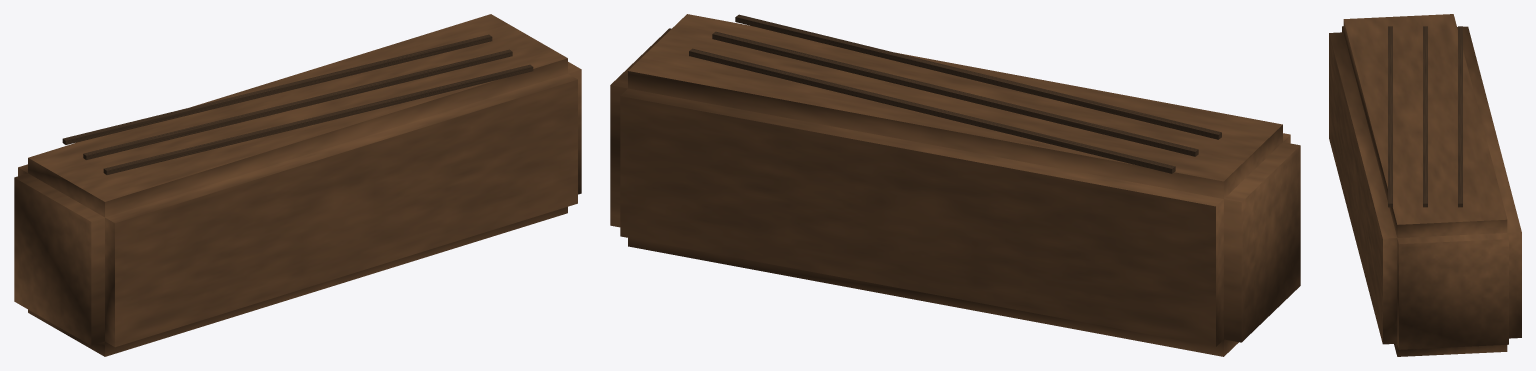
The model's file is ring-fallen-beam-1.fbx.
3 views of the same model, side by side, from view 1: azimuth 30°, elevation 25°; view 2: azimuth 150°, elevation 25°; view 3: azimuth 270°, elevation 25° (orthographic). The views are drawn at different scales.
Visible parts, largest first — view 1: ring-fallen-beam-1__Geometry; view 2: ring-fallen-beam-1__Geometry; view 3: ring-fallen-beam-1__Geometry.
Boxes of the visible parts, x1=… form: ring-fallen-beam-1__Geometry: x1=14, y1=14, x2=581, y2=356; ring-fallen-beam-1__Geometry: x1=610, y1=14, x2=1300, y2=356; ring-fallen-beam-1__Geometry: x1=1329, y1=14, x2=1521, y2=356.
Size of the model in its own units: 0.9055 by 0.2585 by 0.3308.
